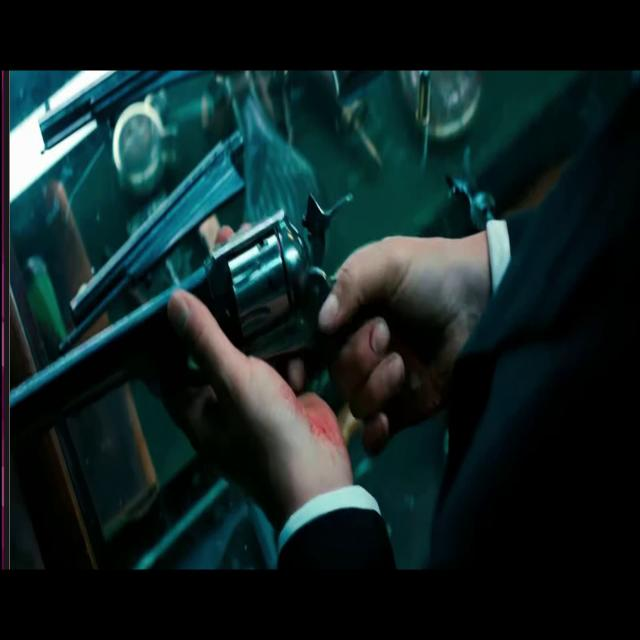weapons: (4, 156, 368, 480)
